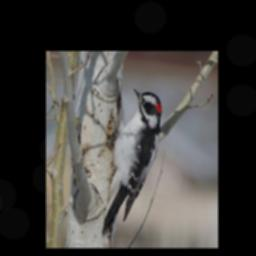Woodpecker: (100, 87, 161, 239)
